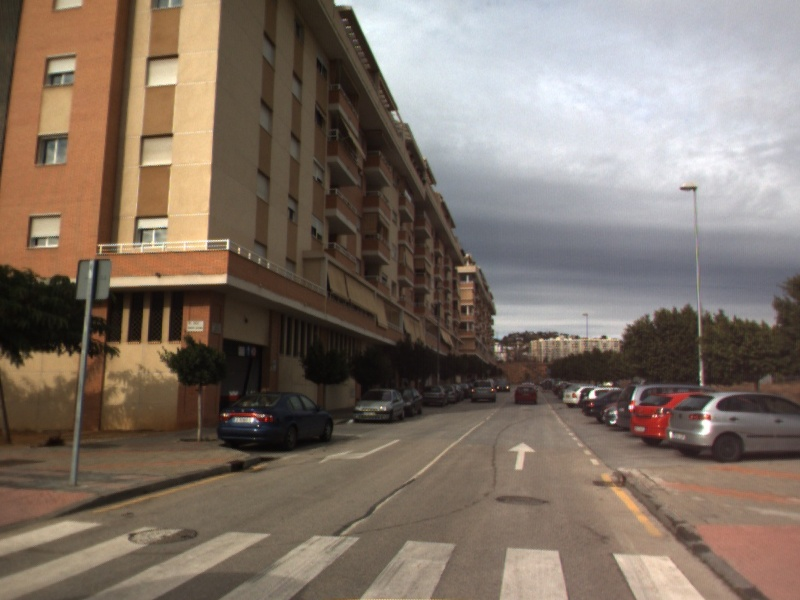STRAIGHT: (506, 440, 538, 472)
